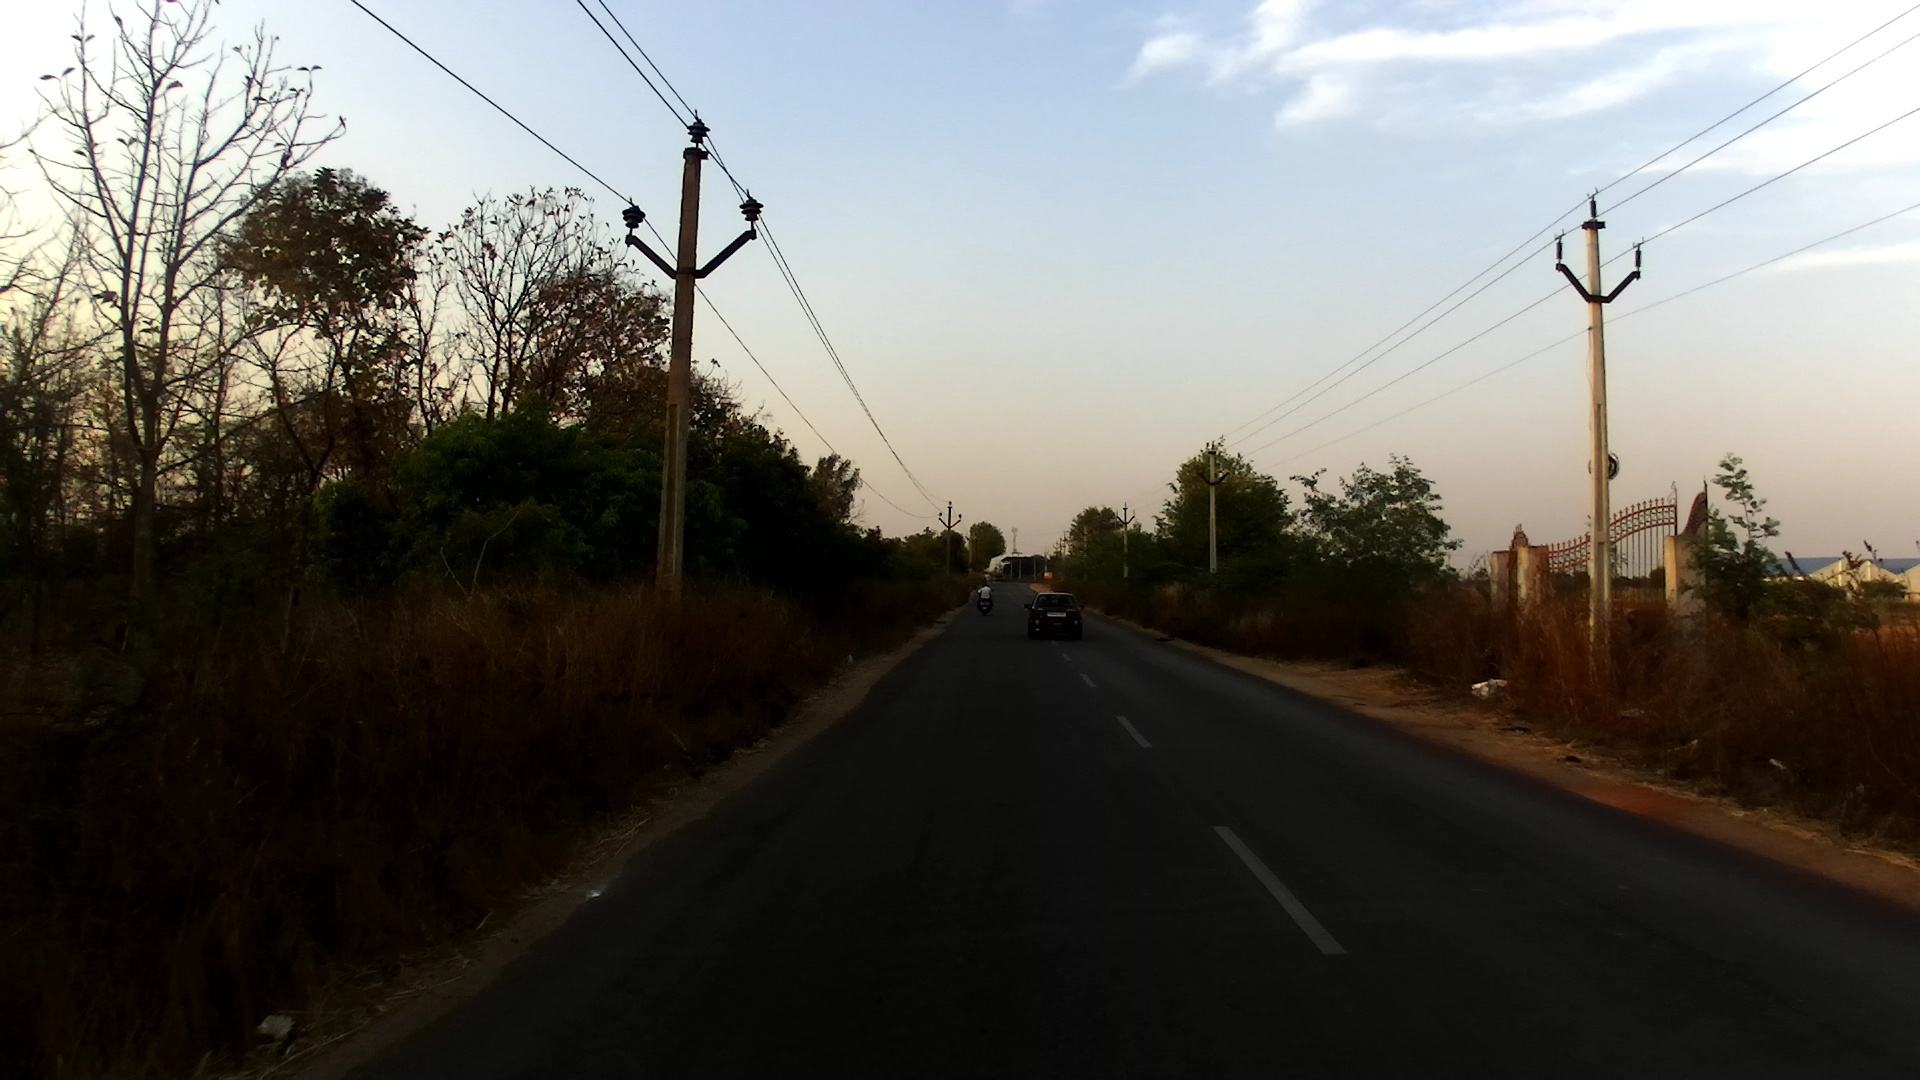car: (1021, 591, 1083, 639)
motorcycle: (975, 587, 997, 614)
rider: (976, 580, 995, 609)
vehicle fallback: (984, 572, 992, 580)
